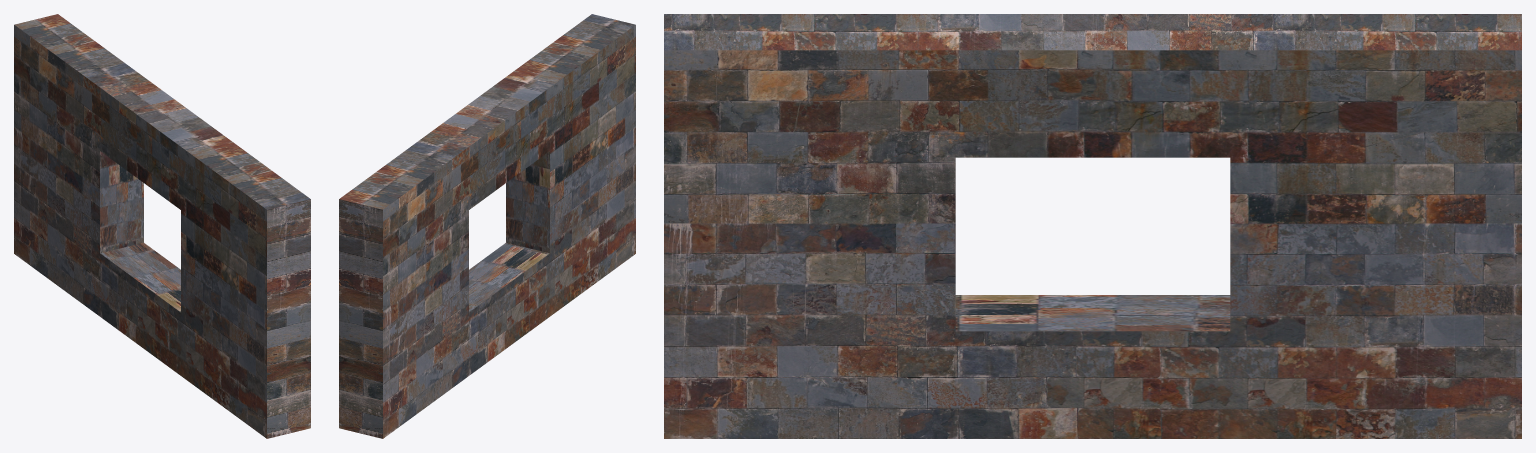
Rendered from brick_wall_window_no_bars.FBX.
The picture shows the model from 3 angles, left to right: view 1: azimuth 30°, elevation 25°; view 2: azimuth 150°, elevation 25°; view 3: azimuth 270°, elevation 25°; orthographic projection. The views are drawn at different scales.
Parts seen in each view (by area): view 1: Box002; view 2: Box002; view 3: Box002.
Boxes of the visible parts, x1,y1,x2,y2 form: Box002: [14, 14, 310, 438]; Box002: [339, 14, 635, 438]; Box002: [664, 14, 1521, 438].
Size of the model in its own units: 0.5 by 2.5 by 5.
Materials: 1 (1 with a texture image).
